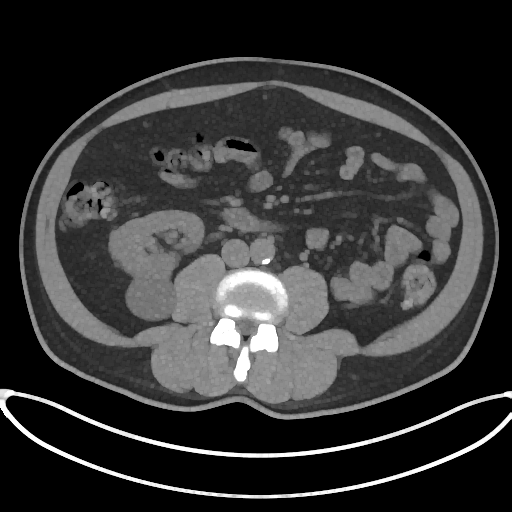Lesion: (124, 273, 177, 321)
